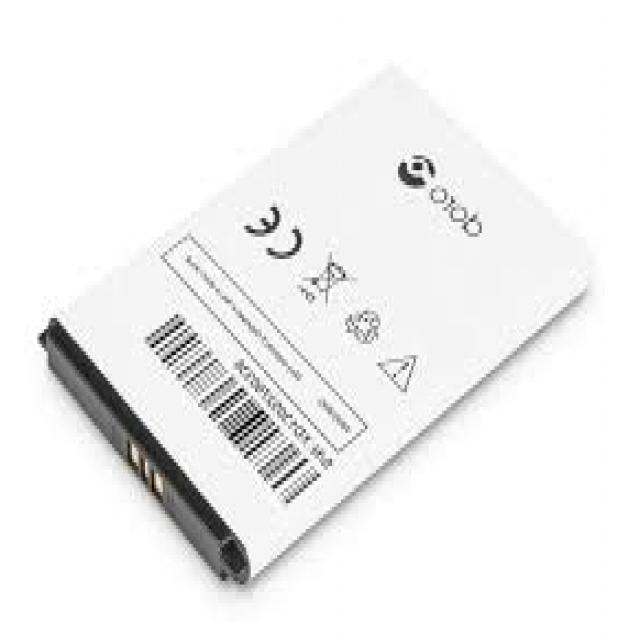battery: (34, 62, 597, 590)
